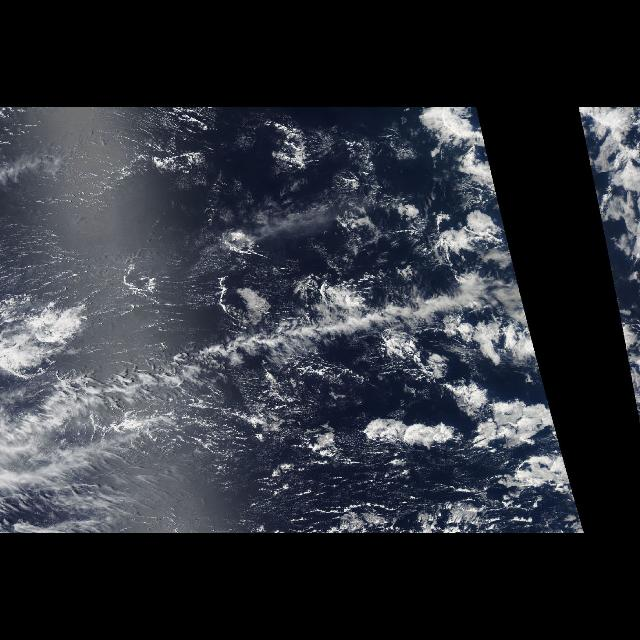Gravel: (205, 152, 461, 364)
